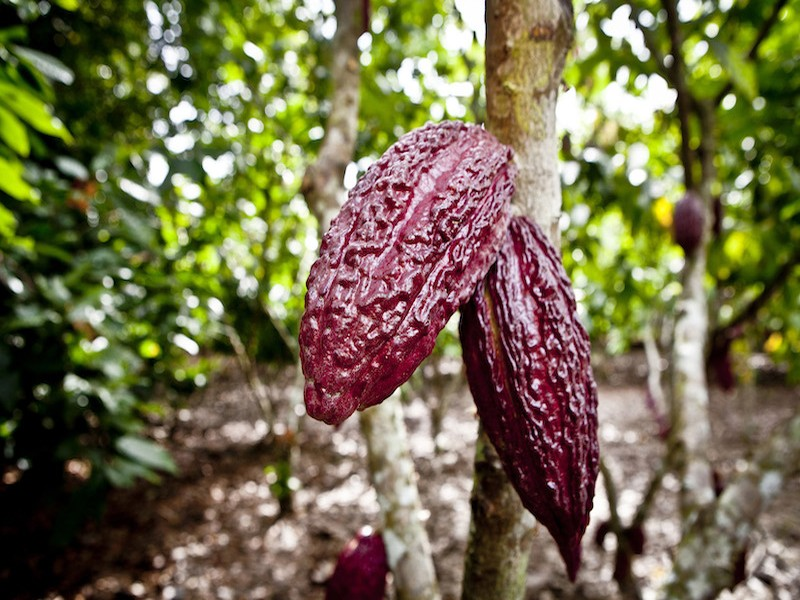Cacaopod: (296, 116, 522, 427)
